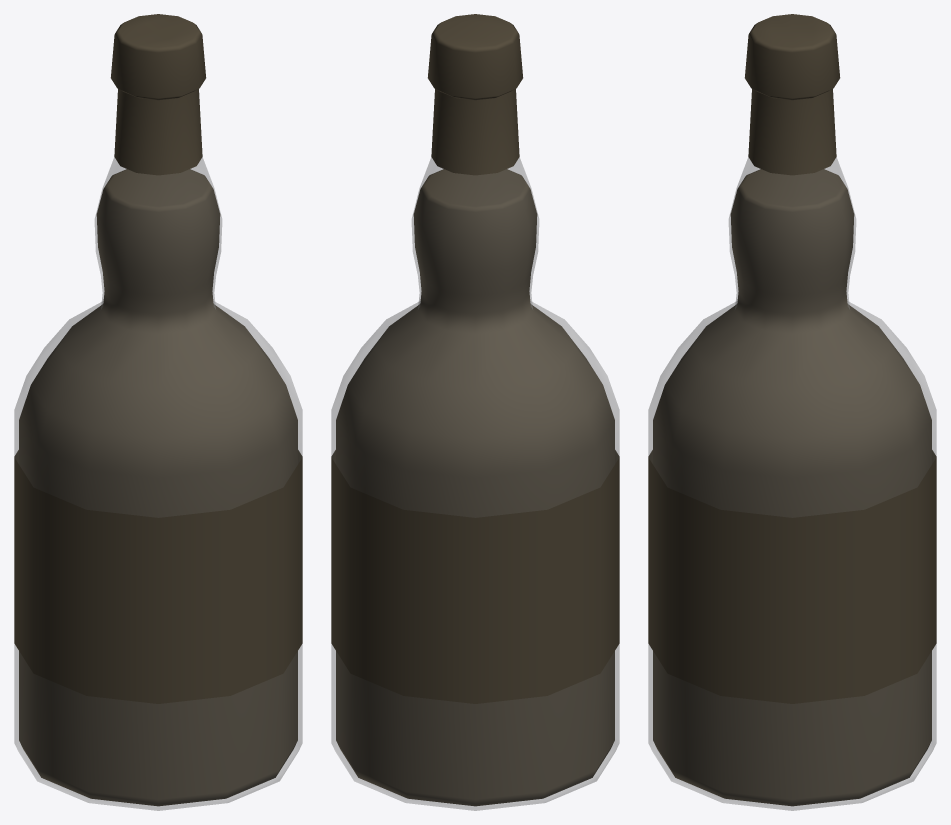
Rendered from Bottle3.fbx.
3 renders of one model, left to right at view 1: azimuth 30°, elevation 25°; view 2: azimuth 150°, elevation 25°; view 3: azimuth 270°, elevation 25°, orthographic.
Parts seen in each view (by area): view 1: Bottle3, Liquid; view 2: Bottle3, Liquid; view 3: Bottle3, Liquid.
Boxes of the visible parts, <box> form: Bottle3: <box>14,14,302,810</box>; Liquid: <box>19,169,297,806</box>; Bottle3: <box>331,14,619,810</box>; Liquid: <box>336,169,614,806</box>; Bottle3: <box>648,14,936,810</box>; Liquid: <box>653,169,931,806</box>.
Bounding box in the file's own units: 0.0144 × 0.0398 × 0.0144.
